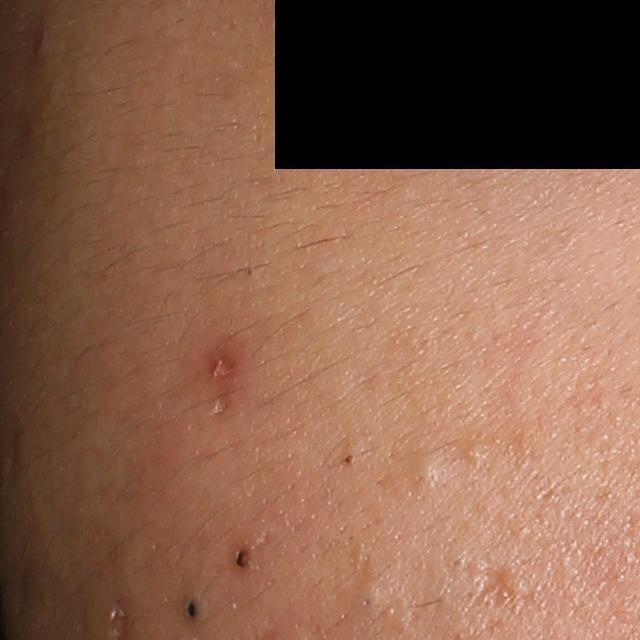atrophic_scar: (465, 556, 516, 614)
comedo: (460, 436, 492, 463)
